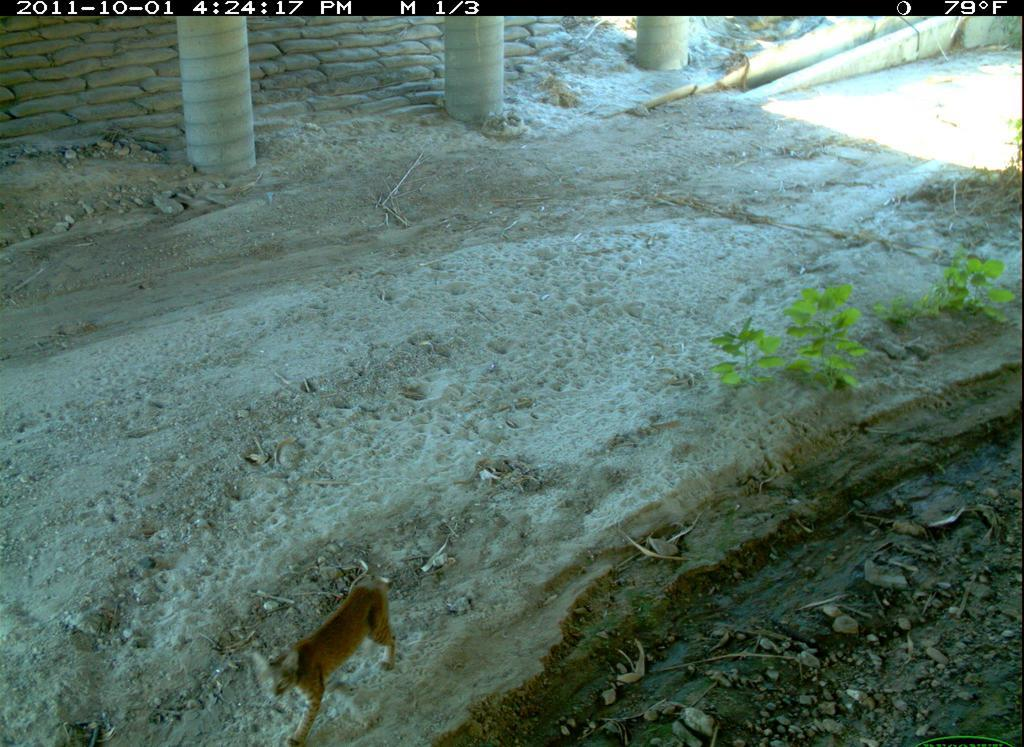bobcat: (248, 575, 404, 747)
